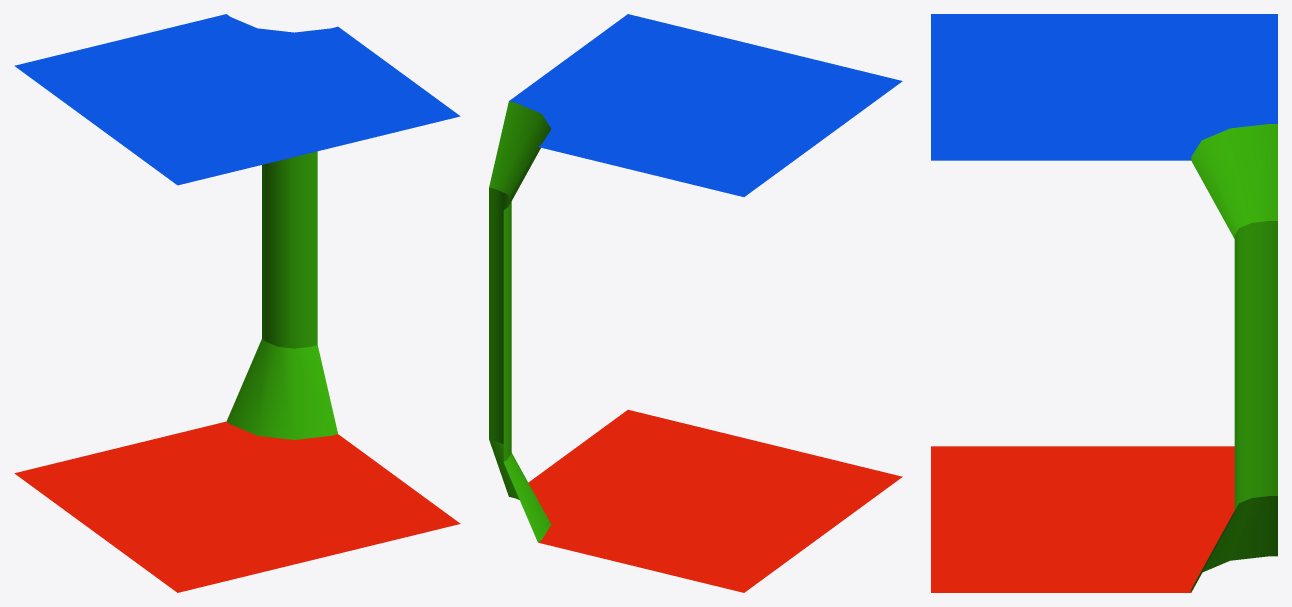
The model's file is inside_corner_rounded.FBX.
The picture shows the model from 3 angles, left to right: view 1: azimuth 30°, elevation 25°; view 2: azimuth 150°, elevation 25°; view 3: azimuth 270°, elevation 25°; orthographic projection. The views are drawn at different scales.
Parts seen in each view (by area): view 1: Line001; view 2: Line001; view 3: Line001.
Boxes of the visible parts, x1=… form: Line001: x1=14, y1=14, x2=460, y2=592; Line001: x1=489, y1=14, x2=902, y2=592; Line001: x1=931, y1=14, x2=1277, y2=592.
Size of the model in its own units: 78.74 by 108 by 78.74.
